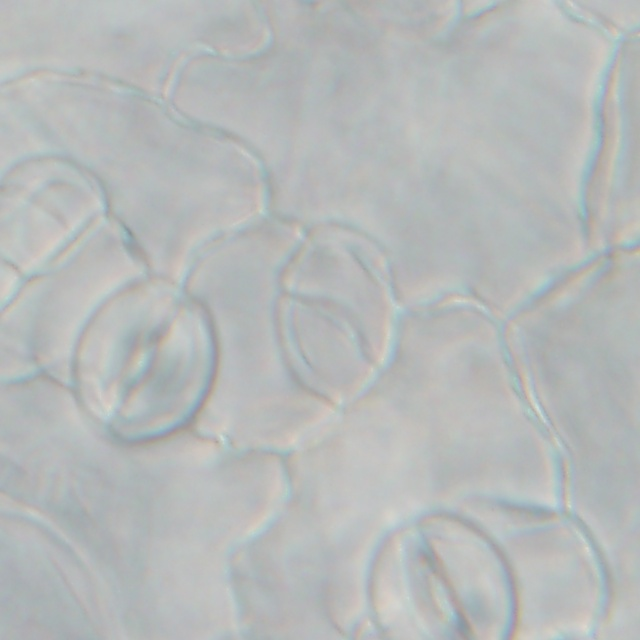center: (415, 552, 471, 639), (118, 325, 168, 397)
stomata-huw1: (74, 280, 217, 441), (369, 515, 515, 639)
